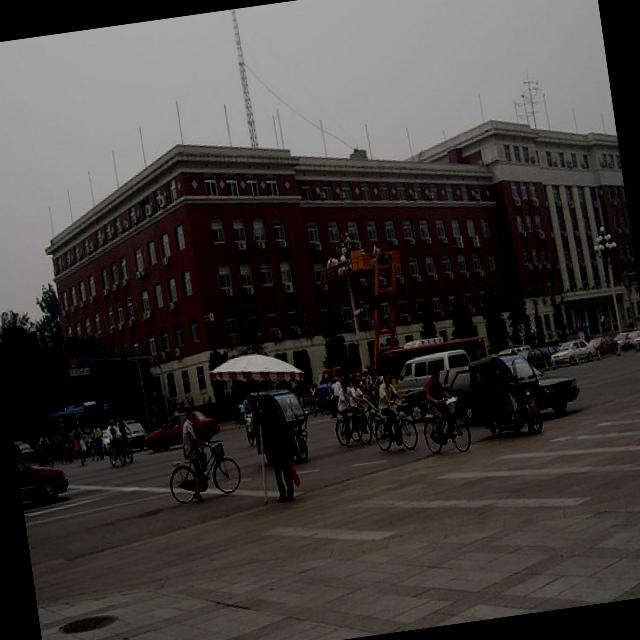Vehicle: (304, 248, 418, 392), (441, 346, 582, 427), (394, 347, 474, 399), (140, 406, 222, 456), (15, 444, 70, 505), (549, 337, 597, 371), (125, 419, 149, 452), (588, 334, 620, 356), (619, 331, 640, 350), (628, 326, 640, 350)
